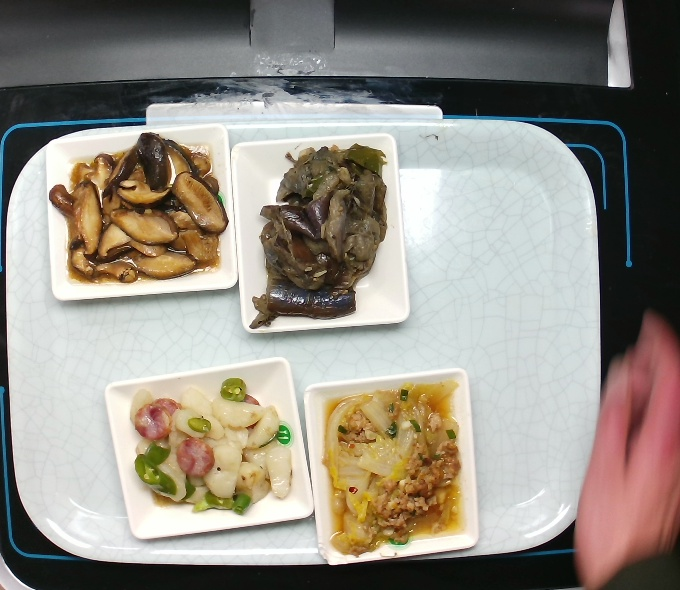wcq-MaTiGuo: (119, 371, 303, 532)
wcq-MoGu: (42, 134, 229, 291)
wcq-QieZi: (244, 136, 399, 334)
wcq-RouMoBaiCai: (320, 384, 470, 559)
